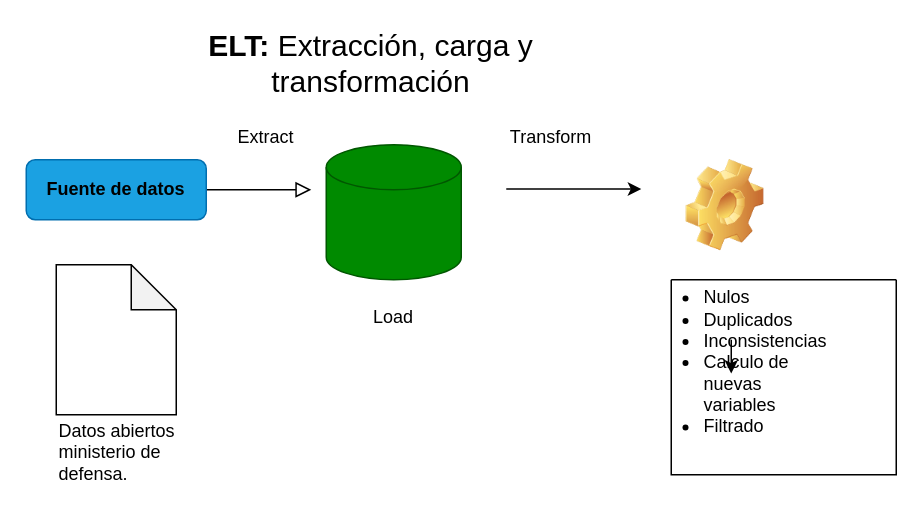
Image size: 923x510. Some labels were removed from this diagram. Here are the shapes that lost their labels. From the top down, the centre of each, then its label:
At (393,211): "Base de datos: SQL Server".
At (115,339): "Homicidio.csv".
